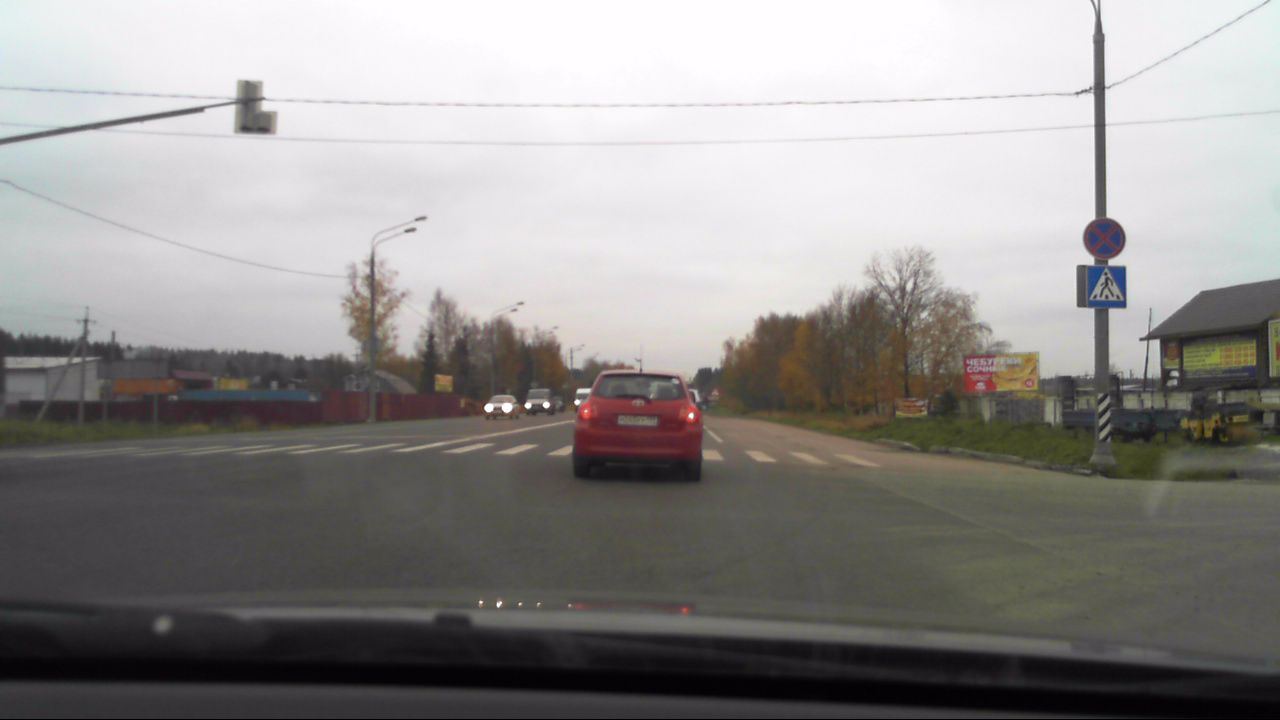No Parking: (1080, 217, 1127, 260)
